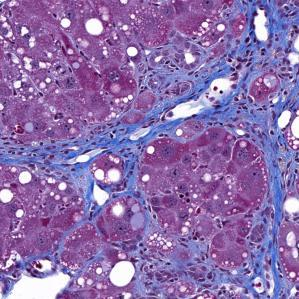fibrosis: (151, 63, 247, 133), (247, 110, 295, 224), (64, 140, 146, 201), (151, 232, 228, 292)
